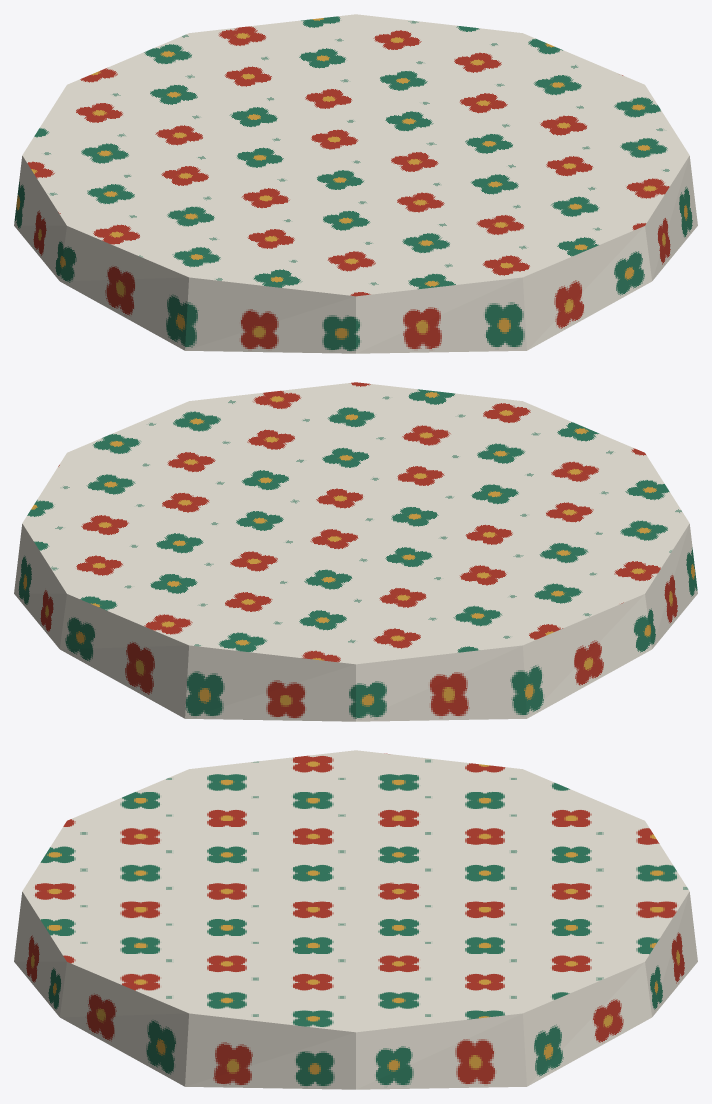
The model's file is SM_TableCover.glb.
3 renders of one model, top to bottom at view 1: azimuth 30°, elevation 25°; view 2: azimuth 150°, elevation 25°; view 3: azimuth 270°, elevation 25°, orthographic.
Visible parts, largest first — view 1: cover; view 2: cover; view 3: cover.
Part boxes in pixels (x1,y1,x2,y2): cover: (14, 14, 697, 353); cover: (14, 382, 697, 721); cover: (14, 750, 697, 1089).
Size of the model in its own units: 0.828 by 0.094 by 0.828.
Materials: 1 (1 with a texture image).
